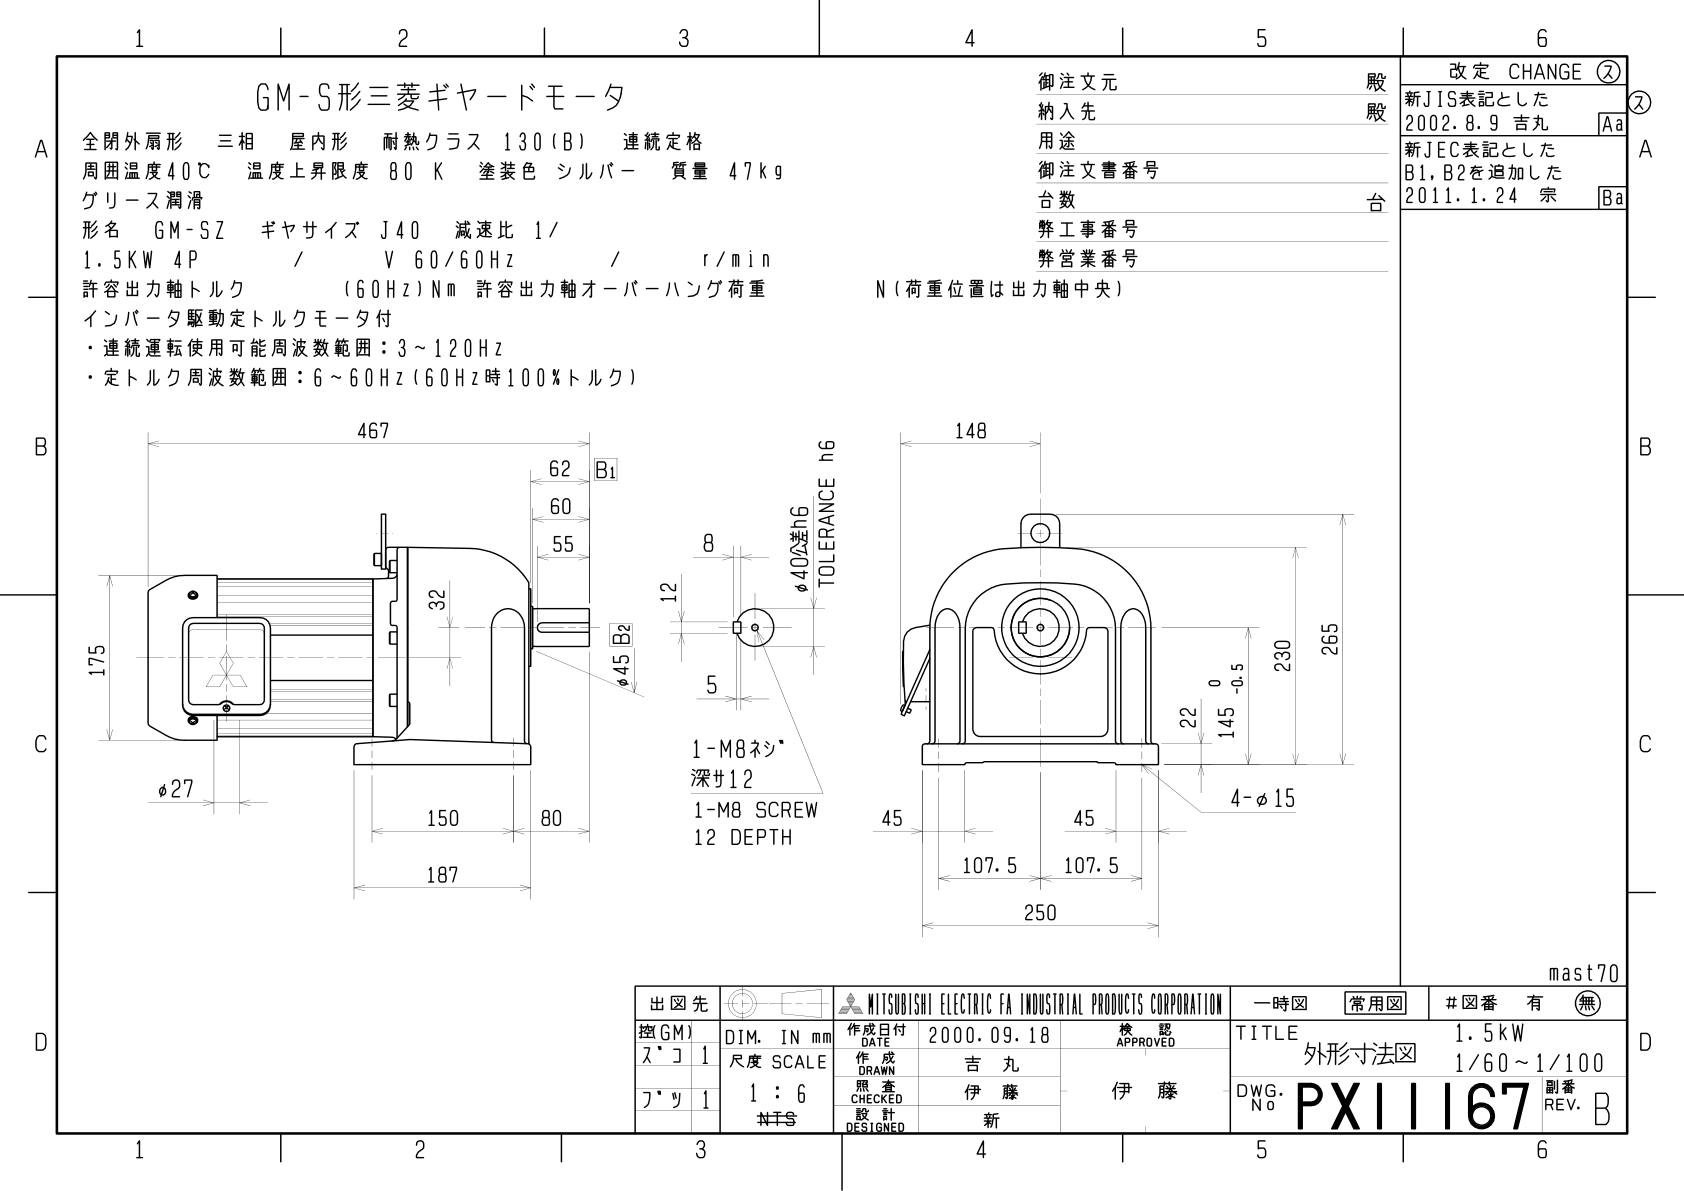GM_S_インバタ屋外＿三相_脚: (81, 406, 1375, 962)
